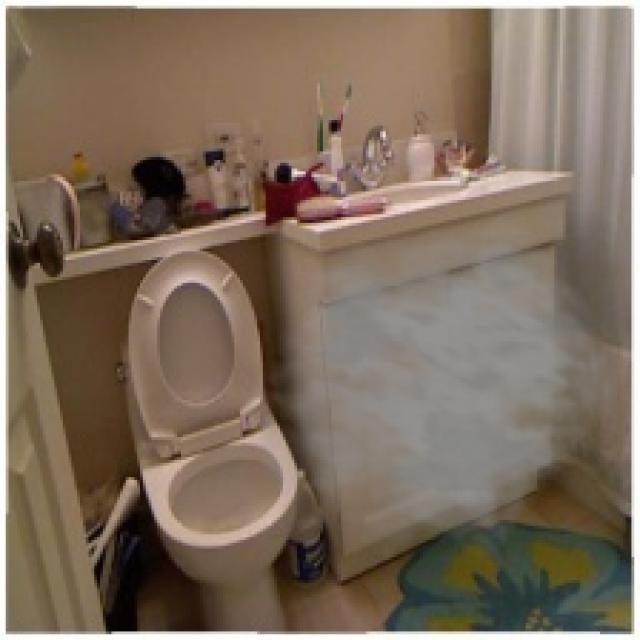smoke: (237, 217, 620, 566)
